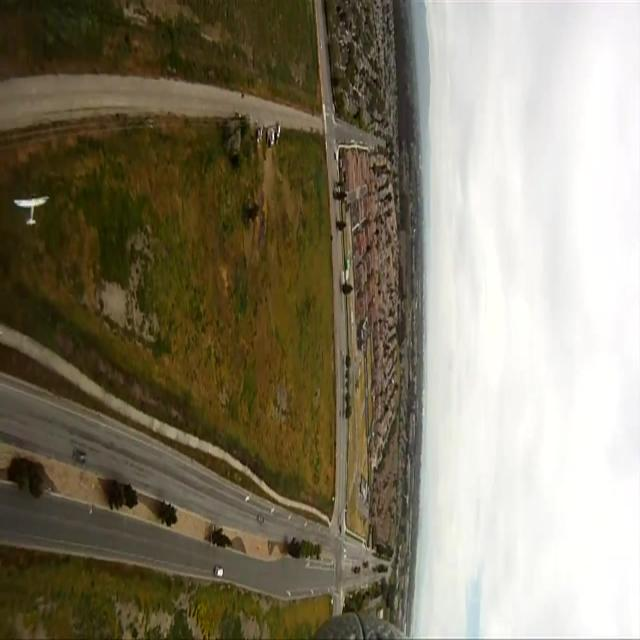iha: (10, 192, 52, 230)
